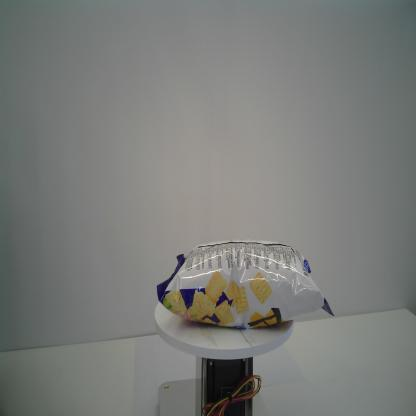Puffed Food: (156, 238, 335, 332)
